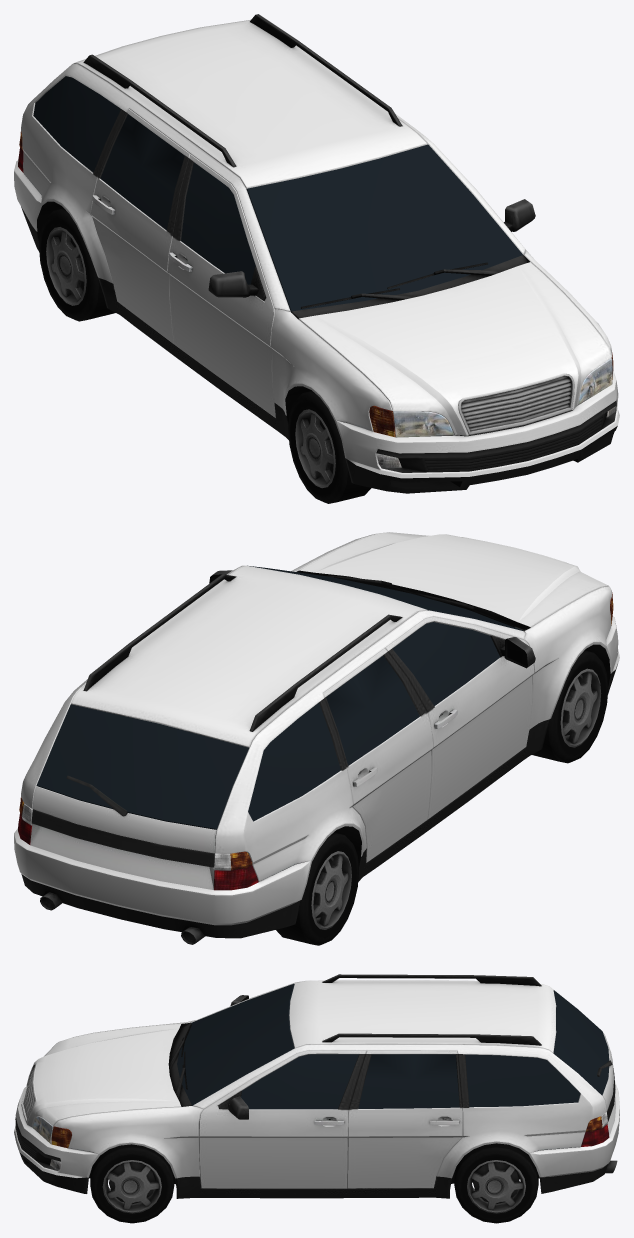
Rendered from break.glb.
The picture shows the model from 3 angles, top to bottom: view 1: azimuth 30°, elevation 25°; view 2: azimuth 150°, elevation 25°; view 3: azimuth 270°, elevation 25°; orthographic projection. The views are drawn at different scales.
Parts seen in each view (by area): view 1: carrosserie, wheel_2, wheel_0; view 2: carrosserie, wheel_0, wheel_2; view 3: carrosserie, wheel_1, wheel_3.
Boxes of the visible parts, x1,y1,x2,y2 form: carrosserie: (14, 14, 619, 493); wheel_2: (288, 391, 371, 503); wheel_0: (39, 208, 115, 321); carrosserie: (14, 532, 619, 944); wheel_0: (276, 832, 359, 945); wheel_2: (532, 650, 608, 763); carrosserie: (14, 974, 619, 1198); wheel_1: (454, 1143, 538, 1223); wheel_3: (90, 1144, 174, 1223).
Bounding box in the file's own units: 2.19 × 1.55 × 4.93.
7 materials, 6 textured.
